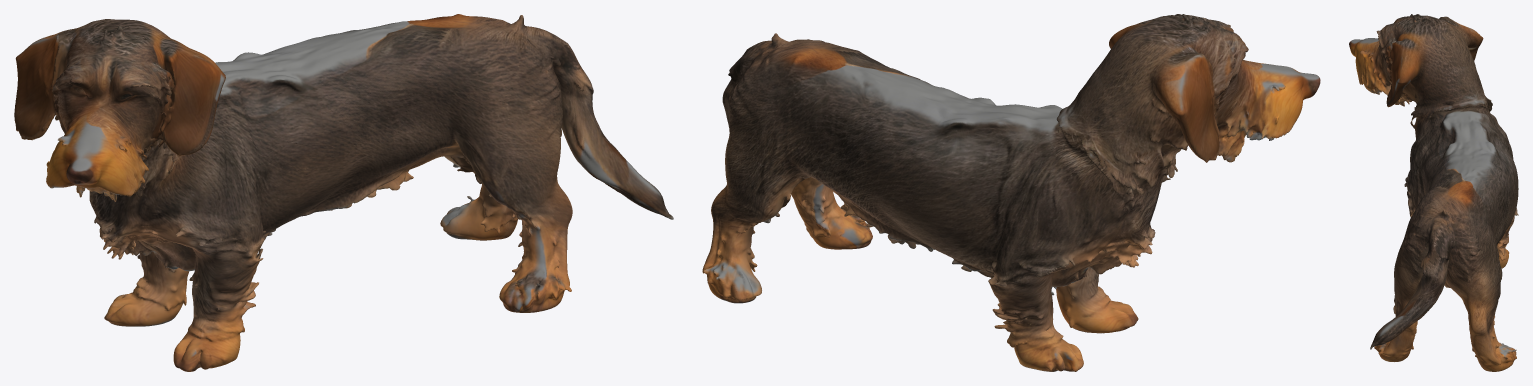
File: pocky.glb
3 views of the same model, side by side, from view 1: azimuth 30°, elevation 25°; view 2: azimuth 150°, elevation 25°; view 3: azimuth 270°, elevation 25° (orthographic). The views are drawn at different scales.
Visible parts, largest first — view 1: tripo_node_ea2152e2-6c85-4f14-93b1-c4d10da28a37; view 2: tripo_node_ea2152e2-6c85-4f14-93b1-c4d10da28a37; view 3: tripo_node_ea2152e2-6c85-4f14-93b1-c4d10da28a37.
Boxes of the visible parts, box(x1,y1,x2,y2) form: tripo_node_ea2152e2-6c85-4f14-93b1-c4d10da28a37: box(14, 14, 673, 371); tripo_node_ea2152e2-6c85-4f14-93b1-c4d10da28a37: box(702, 14, 1320, 371); tripo_node_ea2152e2-6c85-4f14-93b1-c4d10da28a37: box(1349, 14, 1518, 371).
Size of the model in its own units: 1 by 0.5606 by 0.3899.
1 material, 1 textured.
